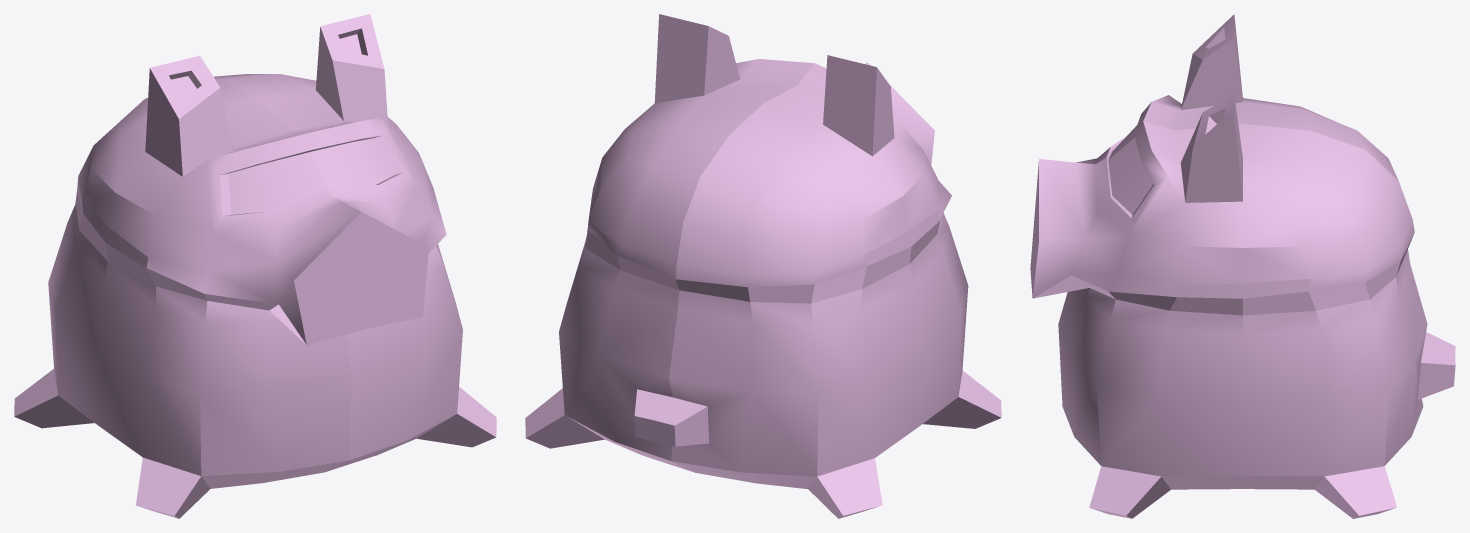
File: Pig.fbx
3 renders of one model, left to right at view 1: azimuth 30°, elevation 25°; view 2: azimuth 150°, elevation 25°; view 3: azimuth 270°, elevation 25°, orthographic. The views are drawn at different scales.
Visible parts, largest first — view 1: pCube14; view 2: pCube14; view 3: pCube14.
Boxes of the visible parts, bbox=[...] form: pCube14: bbox=[14, 14, 496, 518]; pCube14: bbox=[525, 14, 1001, 518]; pCube14: bbox=[1030, 14, 1455, 518].
Bounding box in the file's own units: 2.96 × 3.08 × 3.13.
